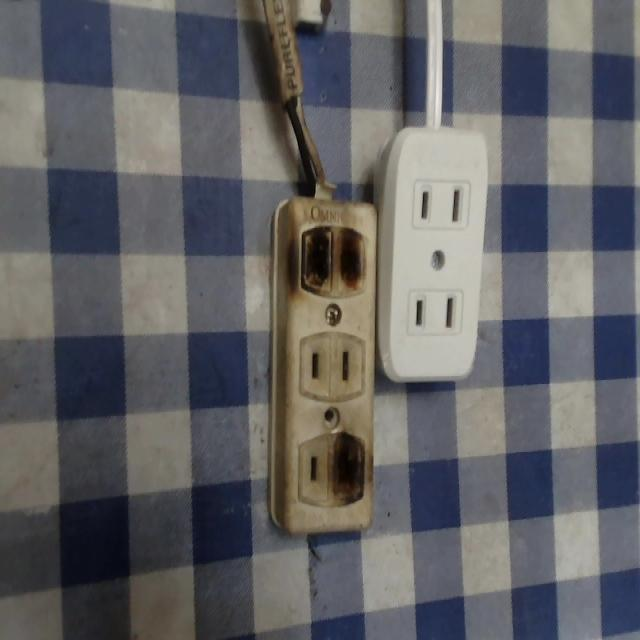-: (292, 222, 369, 302), (328, 432, 368, 511)
